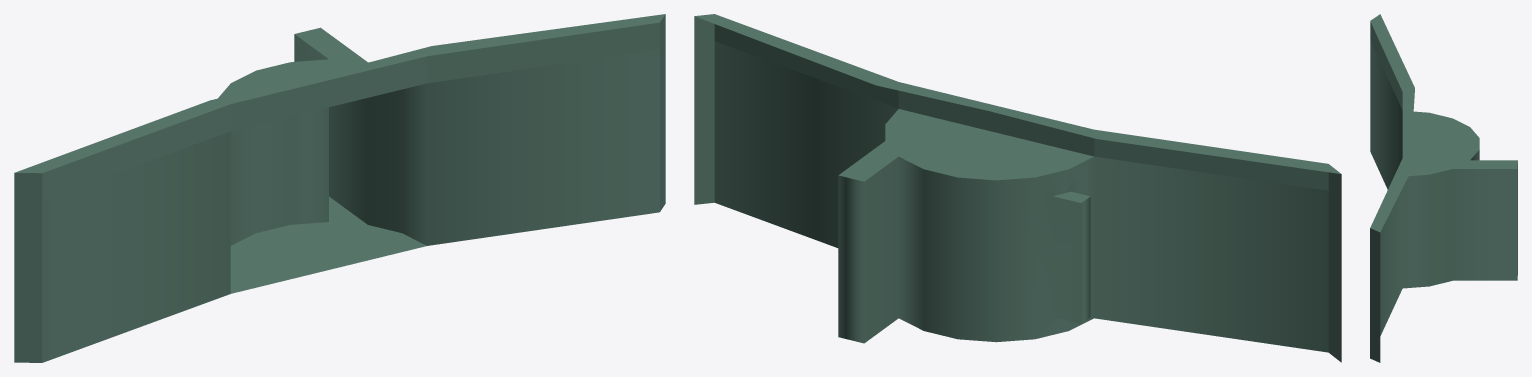
File: GearCabinet.fbx
The picture shows the model from 3 angles, left to right: view 1: azimuth 30°, elevation 25°; view 2: azimuth 150°, elevation 25°; view 3: azimuth 270°, elevation 25°; orthographic projection. The views are drawn at different scales.
Parts seen in each view (by area): view 1: GearWorksCabinet; view 2: GearWorksCabinet; view 3: GearWorksCabinet.
Boxes of the visible parts, left/top/right/bottom form: GearWorksCabinet: left=14, top=14, right=665, bottom=362; GearWorksCabinet: left=694, top=14, right=1341, bottom=362; GearWorksCabinet: left=1370, top=14, right=1517, bottom=362.
Bounding box in the file's own units: 1257 × 350 × 359.
